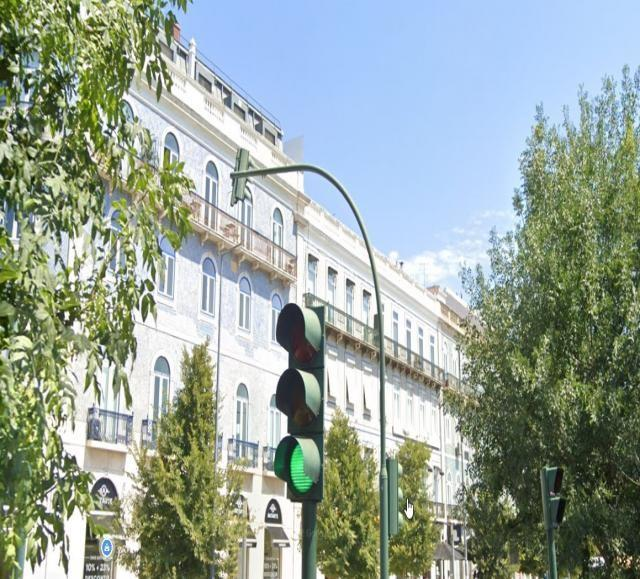green_light: (275, 304, 325, 502)
